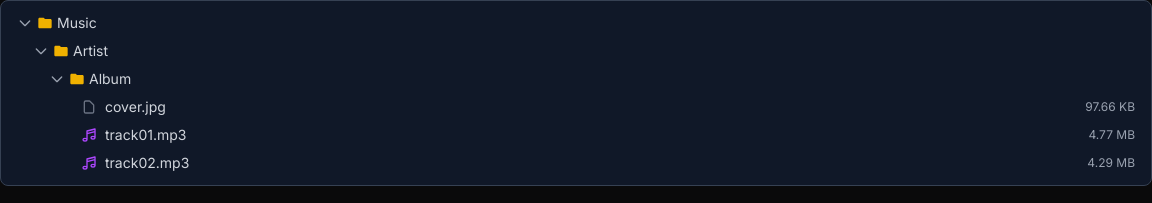
Test case: Torrent Catalog › FileTree › should expand/collapse folders
This screenshot has width=1152, height=203.
expect the text "track01.mp3" is shown: met, box [105, 126, 186, 143]
// Click to collapse
What coordinates should you click on to do the following:
click the text "Music"
I would click on:
 (77, 22)
Its box is [57, 14, 97, 31].
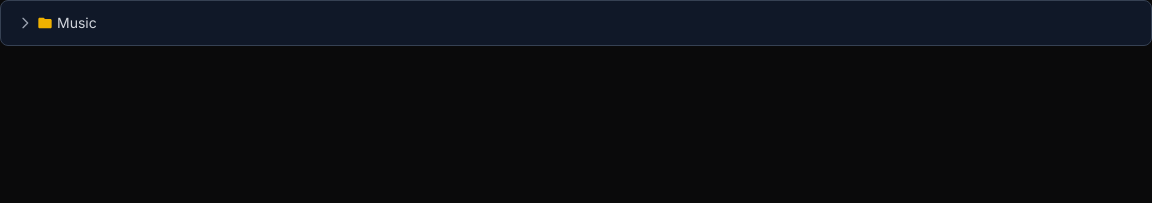
expect the text "track01.mp3" is gone: met
